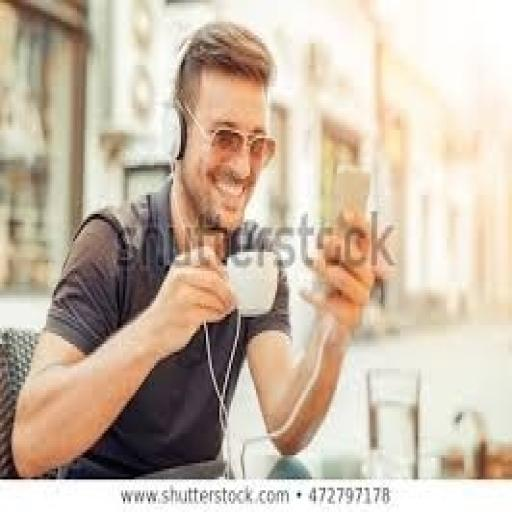listening_to_music: (10, 19, 388, 479)
